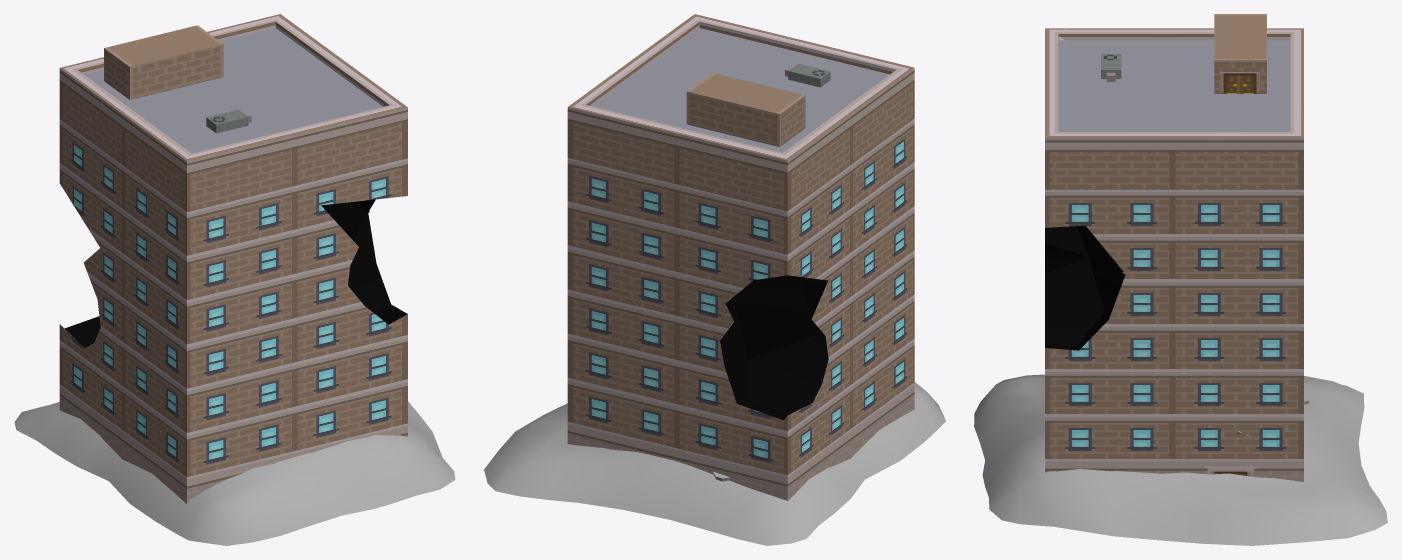
The model's file is Building3Test.fbx.
3 renders of one model, left to right at view 1: azimuth 30°, elevation 25°; view 2: azimuth 150°, elevation 25°; view 3: azimuth 270°, elevation 25°, orthographic. The views are drawn at different scales.
Visible parts, largest first — view 1: polySurface12, polySurface4, polySurface11, polySurface6; view 2: polySurface12, polySurface4, polySurface11, polySurface6; view 3: polySurface12, polySurface4, polySurface6.
Part boxes in pixels (x1,y1,x2,y2): polySurface12: (59,14,407,503); polySurface4: (14,401,455,545); polySurface11: (130,152,273,360); polySurface6: (104,25,251,133); polySurface12: (567,14,914,500); polySurface4: (484,382,945,545); polySurface11: (858,64,914,311); polySurface6: (686,63,830,146); polySurface12: (1045,28,1303,481); polySurface4: (974,374,1387,545); polySurface6: (1101,14,1266,93).
Bounding box in the file's own units: 2.18 × 2.47 × 2.33.
